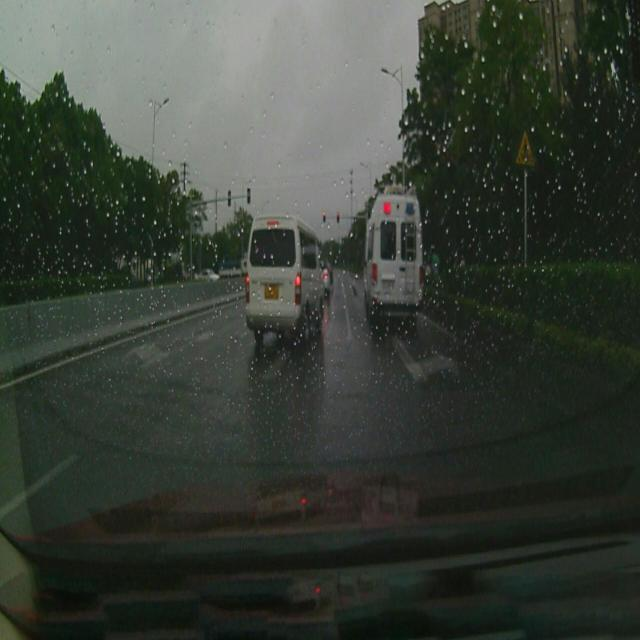car: (244, 214, 324, 346), (363, 182, 422, 324)
